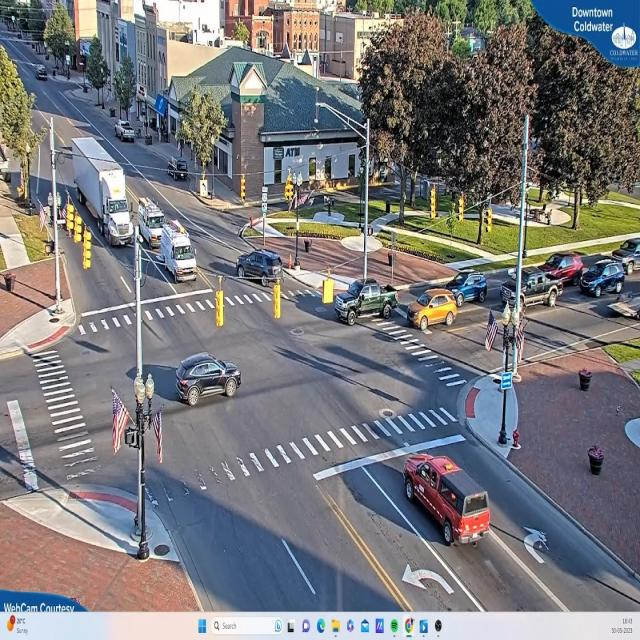car: (402, 454, 493, 547), (175, 352, 242, 406), (335, 281, 397, 326), (502, 270, 564, 308), (405, 290, 460, 331), (160, 224, 197, 281), (578, 262, 627, 298), (236, 250, 286, 285), (536, 252, 585, 284), (449, 274, 487, 302), (117, 122, 137, 144)
truck: (70, 139, 137, 247)
